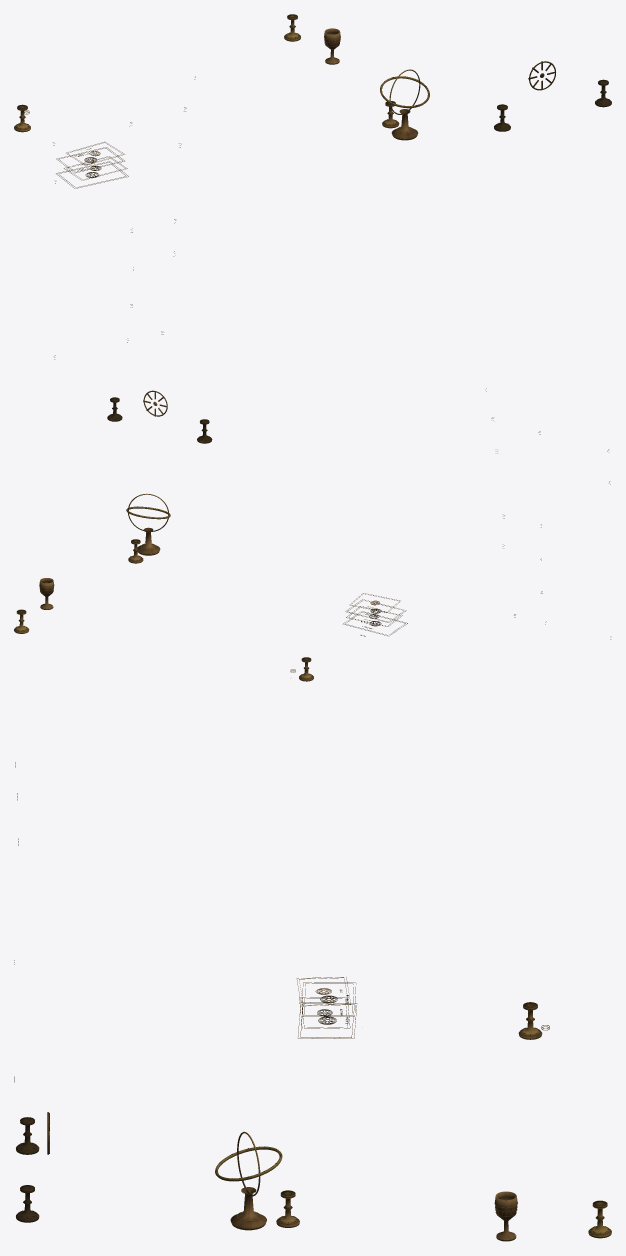
File: StudyMetals.fbx
3 renders of one model, top to bottom at view 1: azimuth 30°, elevation 25°; view 2: azimuth 150°, elevation 25°; view 3: azimuth 270°, elevation 25°, orthographic. The views are drawn at different scales.
Parts seen in each view (by area): view 1: StudyMetals; view 2: StudyMetals; view 3: StudyMetals.
Boxes of the visible parts, x1=… form: StudyMetals: x1=14, y1=14, x2=611, y2=359; StudyMetals: x1=14, y1=388, x2=610, y2=681; StudyMetals: x1=14, y1=762, x2=611, y2=1241.
Bounding box in the file's own units: 2950 × 1252 × 1974.
